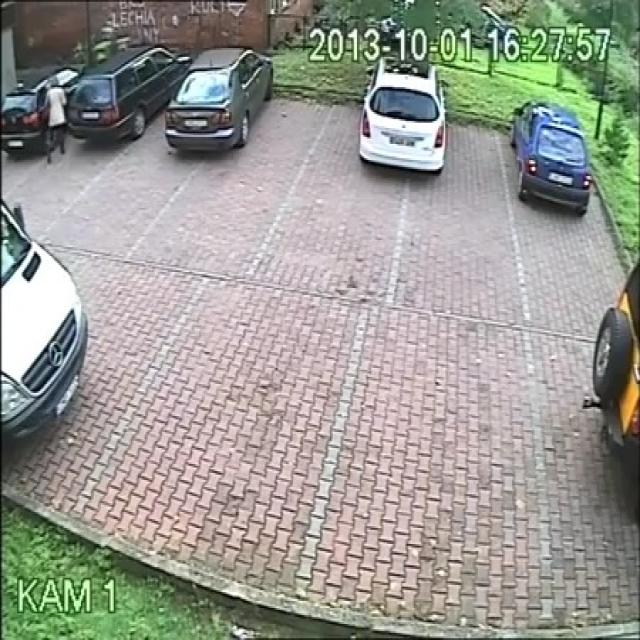empty: (386, 367, 530, 596), (164, 330, 297, 564)
occupied: (0, 181, 99, 463), (513, 96, 606, 224), (363, 52, 453, 182), (174, 45, 268, 163), (73, 48, 159, 148), (0, 65, 70, 159)
